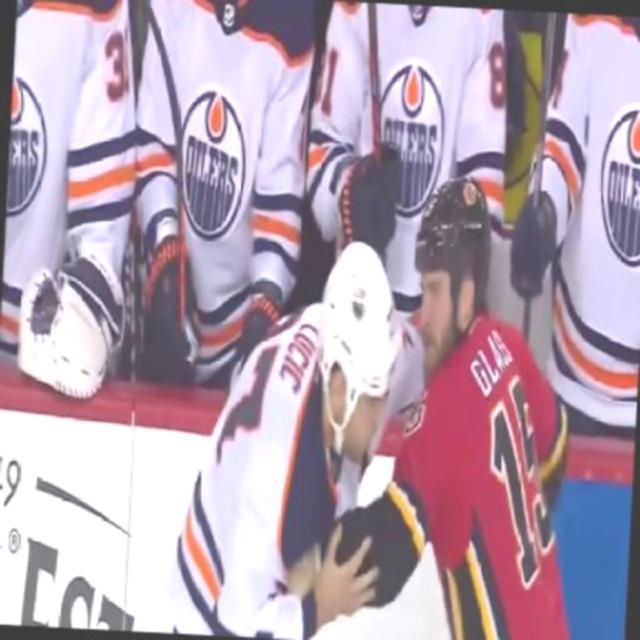fight: (198, 160, 586, 638)
